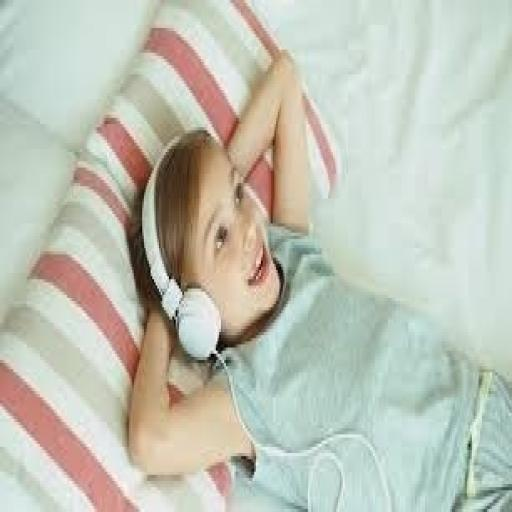listening_to_music: (124, 46, 510, 509)
